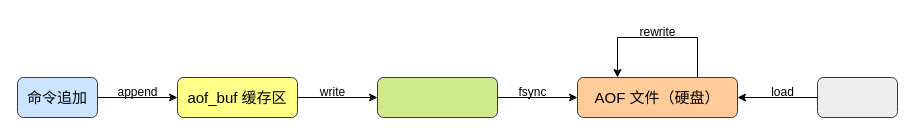
The diagram is 915 pixels wide and 135 high, and some of its shapes have lost their labels. Here are the shapes that lost their labels. From the top down, the box of each, then its label:
(376, 76, 498, 118): 系统内核缓存区
(816, 76, 898, 118): 重启
